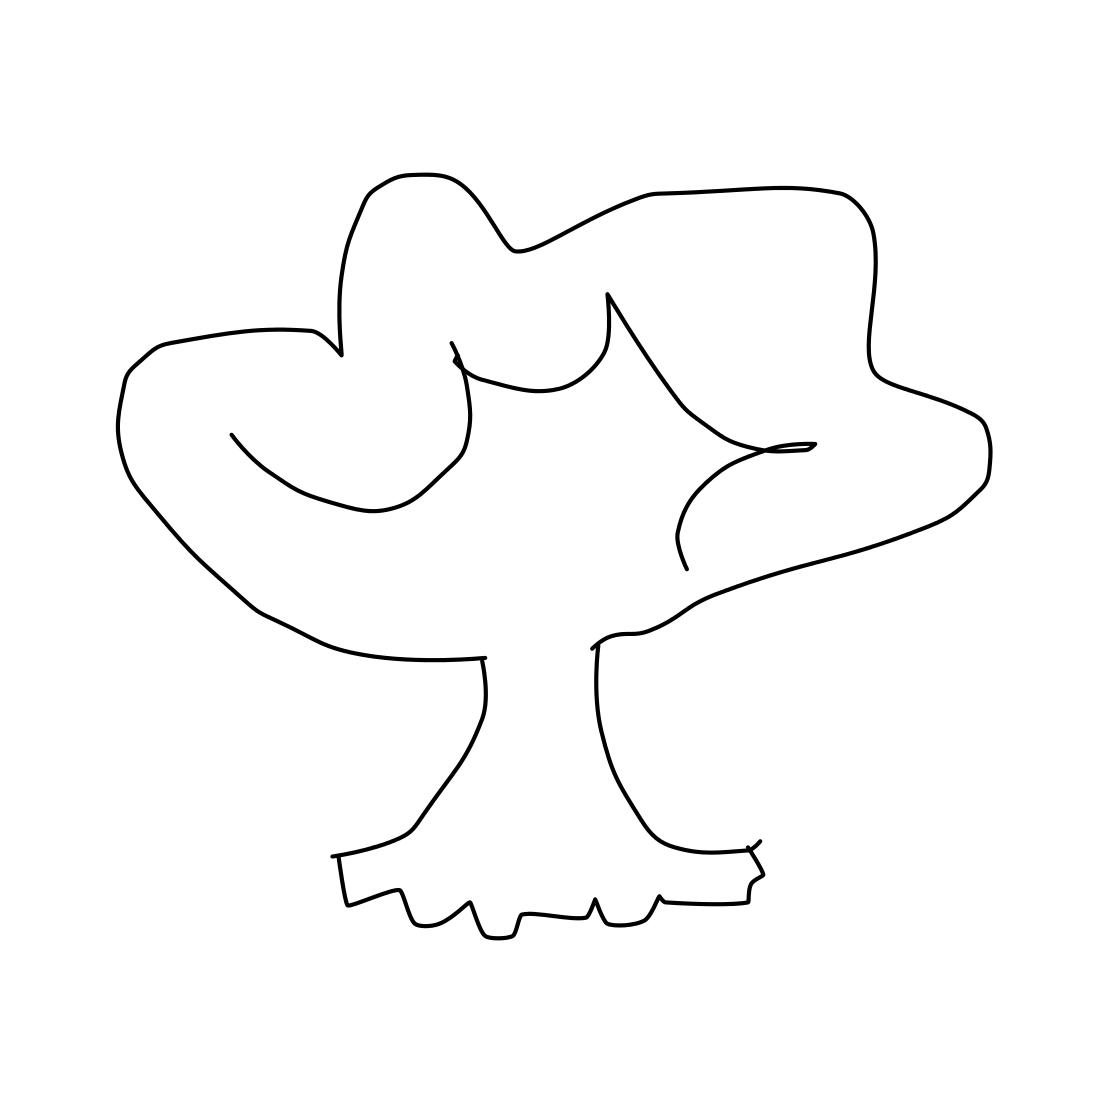Tree: (96, 135, 997, 940)
